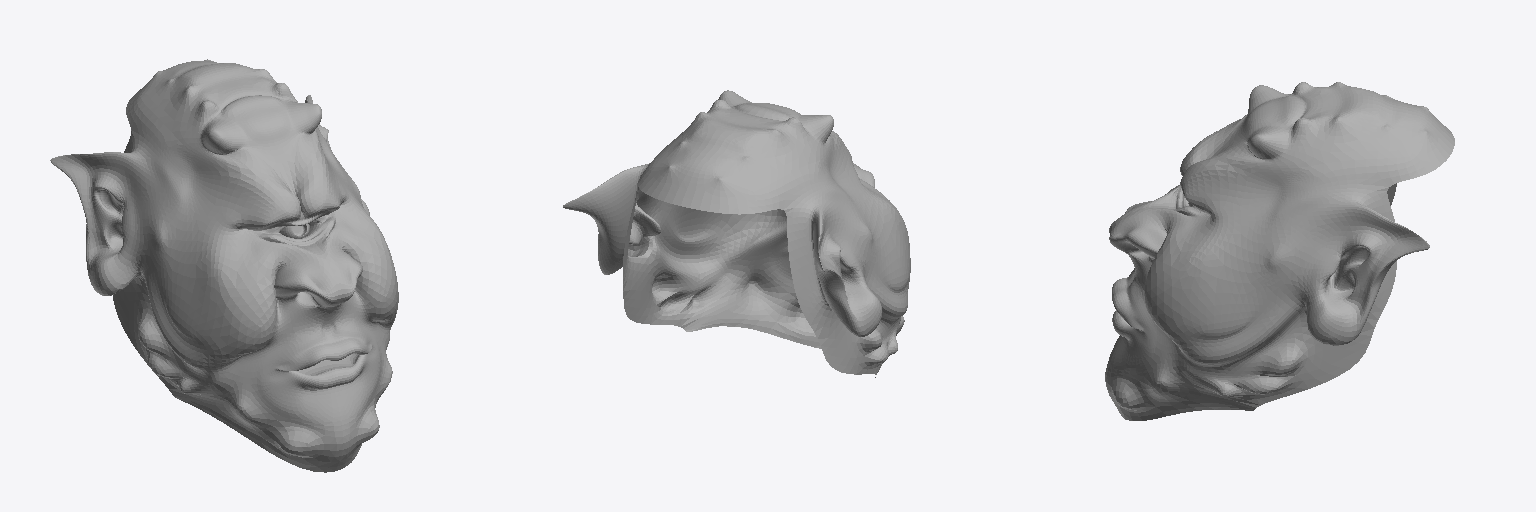
File: bs_angry.obj
The picture shows the model from 3 angles: view 1: azimuth 30°, elevation 25°; view 2: azimuth 150°, elevation 25°; view 3: azimuth 270°, elevation 25°; orthographic projection.
Size of the model in its own units: 1.06 by 1.17 by 1.18.